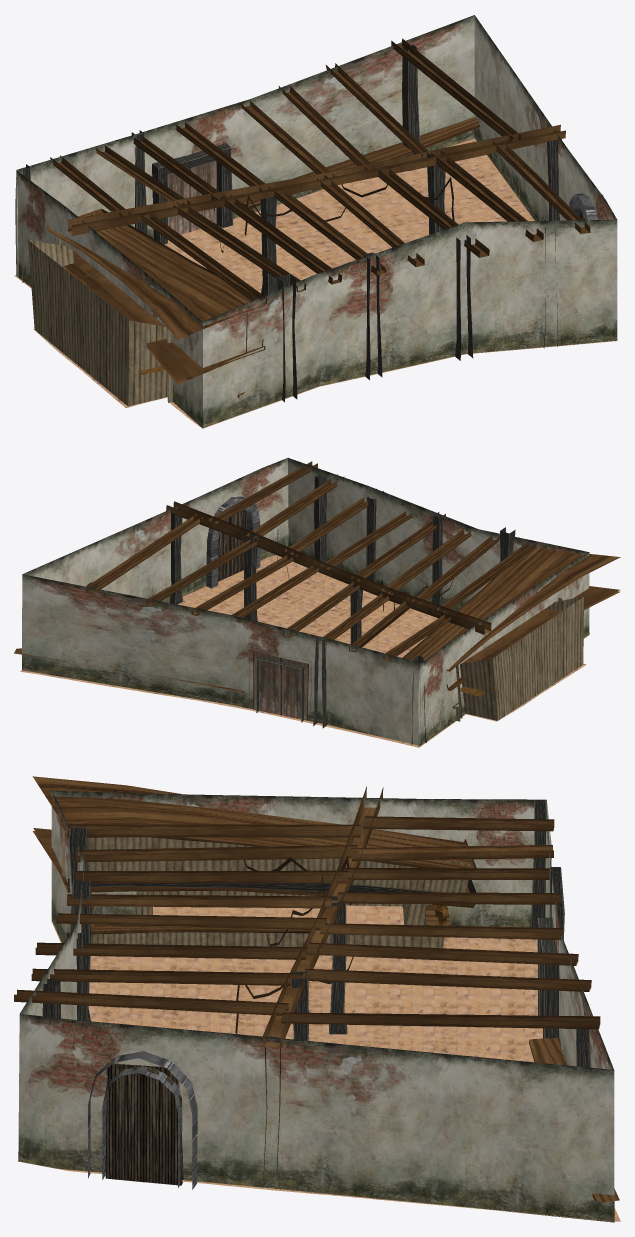
Rendered from interior_tavern_b.fbx.
3 renders of one model, top to bottom at view 1: azimuth 30°, elevation 25°; view 2: azimuth 150°, elevation 25°; view 3: azimuth 270°, elevation 25°, orthographic. The views are drawn at different scales.
Parts seen in each view (by area): view 1: TavernWall, ceiling_beams, floor, tavern_int_v2s12:WallStorage, pasted__polySurface9, tavern_int_v2s12:TavernWall2, polySurface2, tavern_int_v2s12:pasted__polySurface9, door_frame_2, pasted__pasted__polySurface5, pasted__beam22, pasted__beam27 (+8 smaller); view 2: TavernWall, ceiling_beams, floor, tavern_int_v2s12:WallStorage, pasted__polySurface9, tavern_int_v2s12:TavernWall2, polySurface2, tavern_int_v2s12:pasted__polySurface9, door_hole_2, door_frame_1, door_left_2, pasted__beam20 (+10 smaller); view 3: TavernWall, ceiling_beams, floor, tavern_int_v2s12:TavernWall2, pasted__polySurface9, tavern_int_v2s12:pasted__polySurface11, door_right, pasted__pasted__polySurface4_DUP, door_left, polySurface2, door_frame_1, tavern_int_v2s12:pasted__polySurface10 (+10 smaller).
Boxes of the visible parts, left/top/right/bottom form: TavernWall: left=16, top=15, right=617, bottom=427; ceiling_beams: left=50, top=38, right=590, bottom=305; floor: left=14, top=138, right=617, bottom=428; tavern_int_v2s12:WallStorage: left=28, top=237, right=172, bottom=406; pasted__polySurface9: left=46, top=208, right=265, bottom=339; tavern_int_v2s12:TavernWall2: left=15, top=170, right=202, bottom=428; polySurface2: left=67, top=124, right=565, bottom=235; tavern_int_v2s12:pasted__polySurface9: left=64, top=251, right=265, bottom=384; door_frame_2: left=152, top=143, right=233, bottom=244; pasted__pasted__polySurface5: left=242, top=117, right=479, bottom=208; pasted__beam22: left=402, top=44, right=419, bottom=170; pasted__beam27: left=455, top=235, right=473, bottom=360; TavernWall: left=22, top=458, right=589, bottom=745; ceiling_beams: left=88, top=461, right=536, bottom=661; floor: left=20, top=555, right=588, bottom=747; tavern_int_v2s12:WallStorage: left=456, top=596, right=583, bottom=720; pasted__polySurface9: left=402, top=545, right=620, bottom=671; tavern_int_v2s12:TavernWall2: left=418, top=552, right=589, bottom=746; polySurface2: left=166, top=501, right=491, bottom=634; tavern_int_v2s12:pasted__polySurface9: left=447, top=586, right=620, bottom=690; door_hole_2: left=253, top=651, right=308, bottom=720; door_frame_1: left=206, top=496, right=260, bottom=588; door_left_2: left=281, top=662, right=303, bottom=719; pasted__beam20: left=243, top=533, right=258, bottom=621; TavernWall: left=18, top=791, right=614, bottom=1222; ceiling_beams: left=14, top=816, right=600, bottom=1029; floor: left=17, top=905, right=620, bottom=1221; tavern_int_v2s12:TavernWall2: left=51, top=790, right=551, bottom=927; pasted__polySurface9: left=32, top=776, right=476, bottom=868; tavern_int_v2s12:pasted__polySurface11: left=62, top=828, right=471, bottom=892; door_right: left=105, top=1067, right=143, bottom=1182; pasted__pasted__polySurface4_DUP: left=91, top=932, right=444, bottom=948; door_left: left=143, top=1067, right=182, bottom=1185; polySurface2: left=262, top=786, right=383, bottom=1047; door_frame_1: left=88, top=1051, right=197, bottom=1189; tavern_int_v2s12:pasted__polySurface10: left=68, top=878, right=476, bottom=892.
Size of the model in its own units: 9792 by 2298 by 7627.
3 materials, 3 textured.
